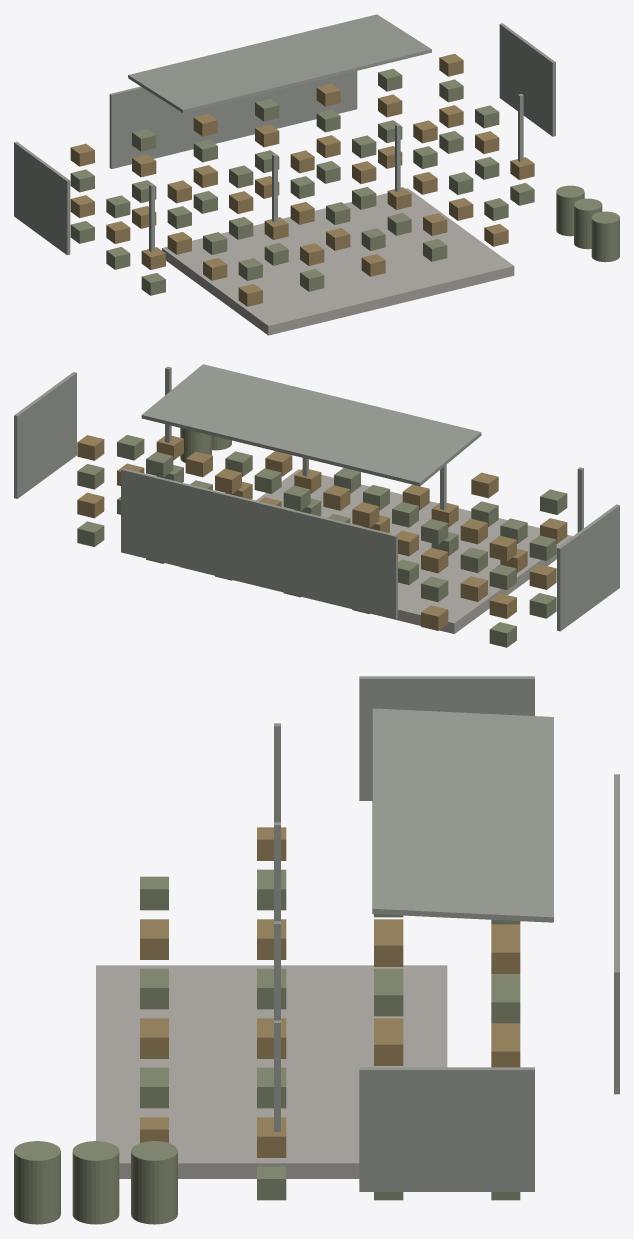
Rendered from us_supply_depot.glb.
3 renders of one model, top to bottom at view 1: azimuth 30°, elevation 25°; view 2: azimuth 150°, elevation 25°; view 3: azimuth 270°, elevation 25°, orthographic. The views are drawn at different scales.
Parts seen in each view (by area): view 1: Platform, Roof, BackWall, LeftWall, RightWall, FuelDrum_0, FuelDrum_2, FuelDrum_1, BackRow_1_L3, BackRow_6_L0, BackRow_6_L3, EdgeRow_0_L0 (+63 smaller); view 2: BackWall, Roof, Platform, RightWall, LeftWall, FuelDrum_2, BackRow_1_L0, BackRow_6_L3, MidRow_3_L2, BackRow_0_L2, BackRow_0_L3, BackRow_1_L1 (+37 smaller); view 3: Platform, Roof, RightWall, LeftWall, FuelDrum_1, FuelDrum_0, FuelDrum_2, BackWall, FrontRow_6_L0, MidRow_4_L2, BackRow_4_L3, MidRow_3_L2 (+16 smaller).
Part boxes in pixels (x1,y1,x2,y2): Platform: [162, 188, 514, 335]; Roof: [128, 14, 431, 113]; BackWall: [109, 71, 357, 168]; LeftWall: [14, 141, 70, 255]; RightWall: [499, 23, 555, 136]; FuelDrum_0: [591, 211, 619, 262]; FuelDrum_2: [556, 185, 584, 236]; FuelDrum_1: [574, 198, 602, 249]; BackRow_1_L3: [132, 128, 156, 151]; BackRow_6_L0: [439, 131, 463, 153]; BackRow_6_L3: [439, 53, 463, 76]; EdgeRow_0_L0: [238, 284, 262, 306]; BackWall: [121, 468, 397, 619]; Roof: [141, 364, 481, 486]; Platform: [180, 469, 572, 633]; RightWall: [14, 372, 76, 498]; LeftWall: [557, 504, 619, 631]; FuelDrum_2: [180, 428, 211, 462]; BackRow_1_L0: [421, 605, 448, 630]; BackRow_6_L3: [77, 435, 104, 460]; MidRow_3_L2: [323, 485, 350, 510]; BackRow_0_L2: [489, 564, 516, 589]; BackRow_0_L3: [489, 536, 516, 561]; BackRow_1_L1: [421, 576, 448, 601]; Platform: [96, 965, 447, 1178]; Roof: [372, 708, 553, 922]; RightWall: [359, 1067, 534, 1191]; LeftWall: [359, 676, 534, 800]; FuelDrum_1: [72, 1141, 119, 1224]; FuelDrum_0: [14, 1141, 60, 1224]; FuelDrum_2: [131, 1141, 177, 1224]; BackWall: [614, 774, 619, 1094]; FrontRow_6_L0: [257, 1166, 286, 1200]; MidRow_4_L2: [374, 982, 403, 1016]; BackRow_4_L3: [491, 940, 520, 973]; MidRow_3_L2: [374, 933, 403, 966].
Size of the model in its own units: 7.95 by 2.56 by 5.18.
